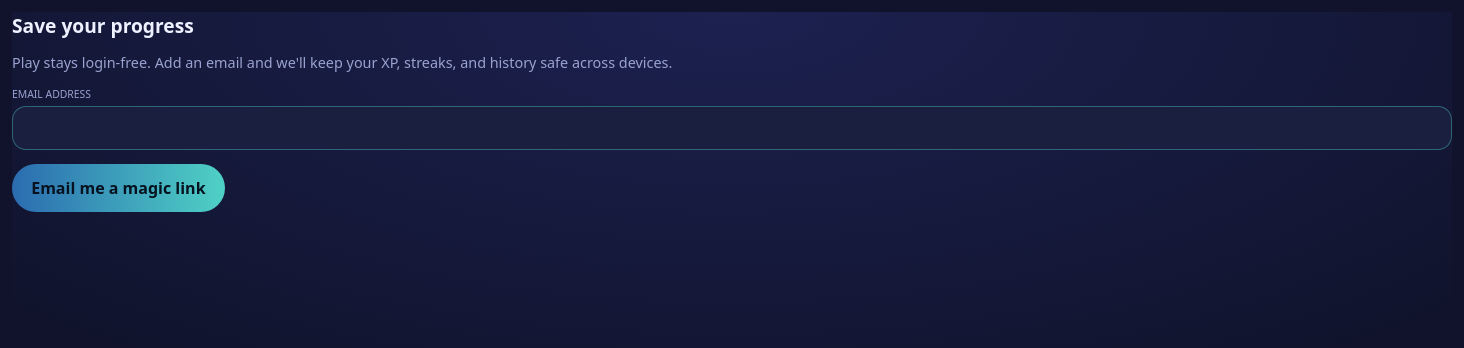
Test: ClaimPanel › requests a link, confirms via the dev token, and reports the profile
Type "player@example.com" into the field labelled "Email address". click: (732, 128)
box: top-left (12, 106), bottom-right (1452, 150)
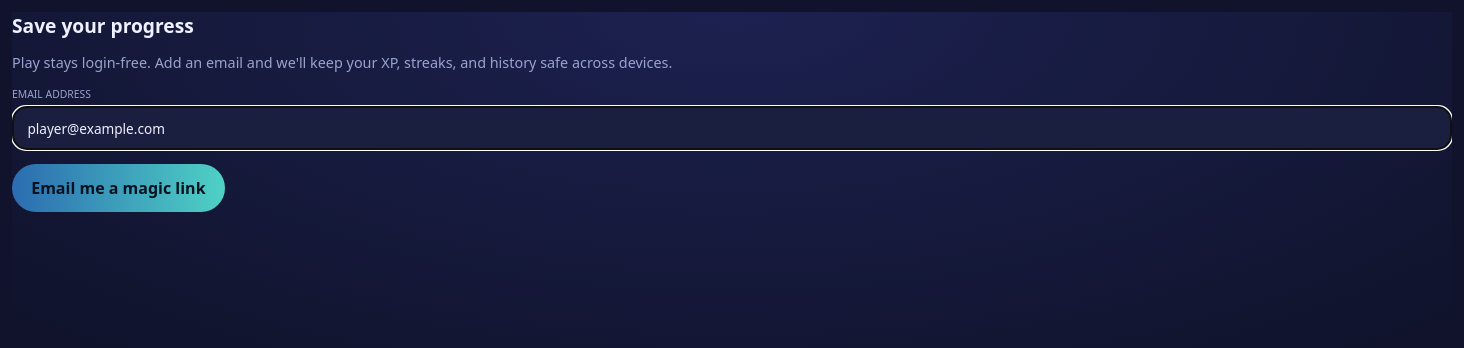
Click the button "Email me a magic link". click: (118, 188)
box: top-left (12, 164), bottom-right (225, 212)
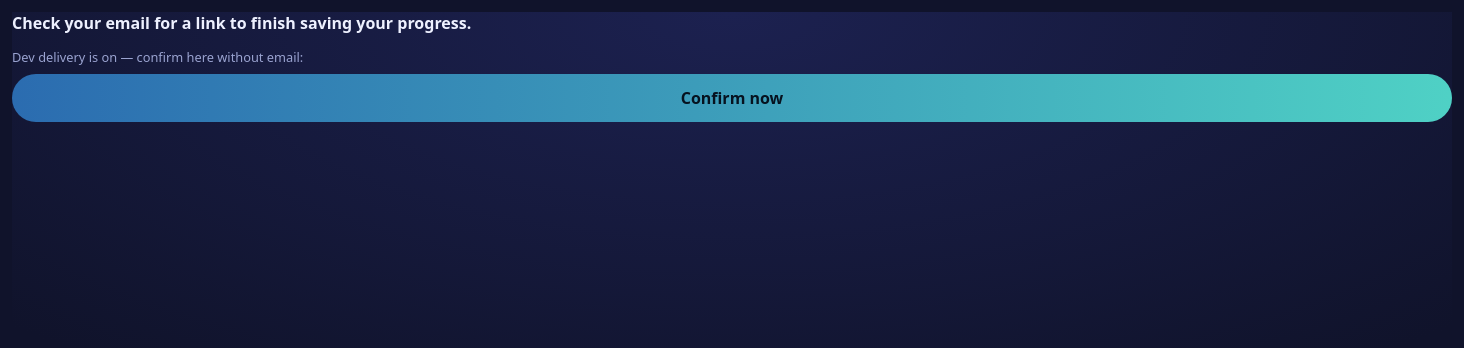
Expected: the text "Check your email for a link to finish saving your progress." is shown, top-left (12, 12), bottom-right (471, 34)
Click the button "Confirm now". click: (732, 98)
box: top-left (12, 74), bottom-right (1452, 122)
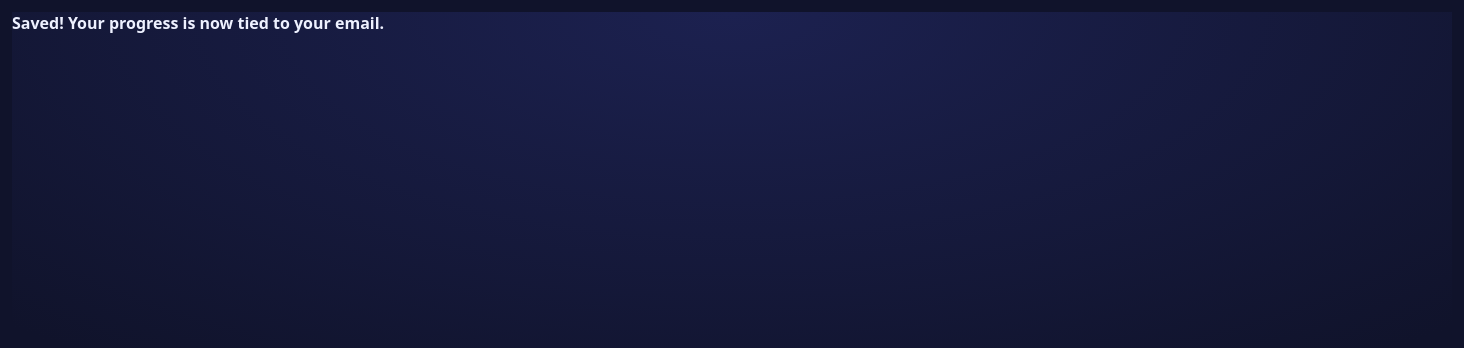
Expected: the text "Saved! Your progress is now tied to your email." is shown, top-left (12, 12), bottom-right (384, 34)
